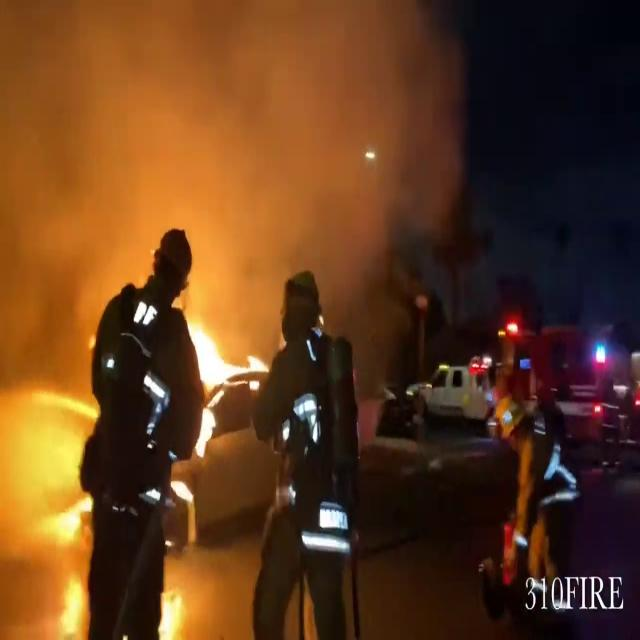Fire: (184, 302, 238, 453)
Smoke: (2, 0, 480, 327), (0, 2, 244, 634)
